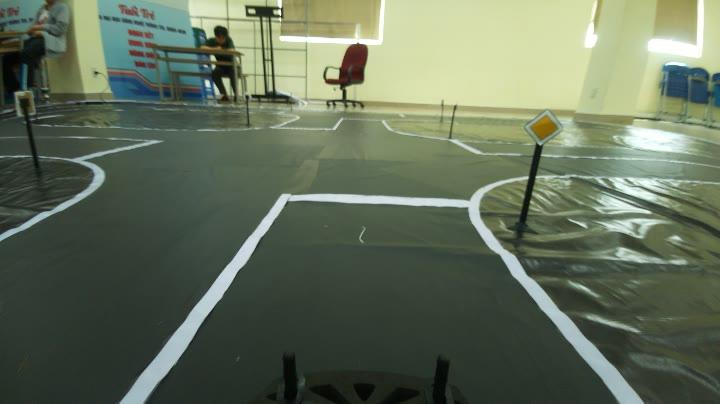priority: (522, 105, 566, 151)
